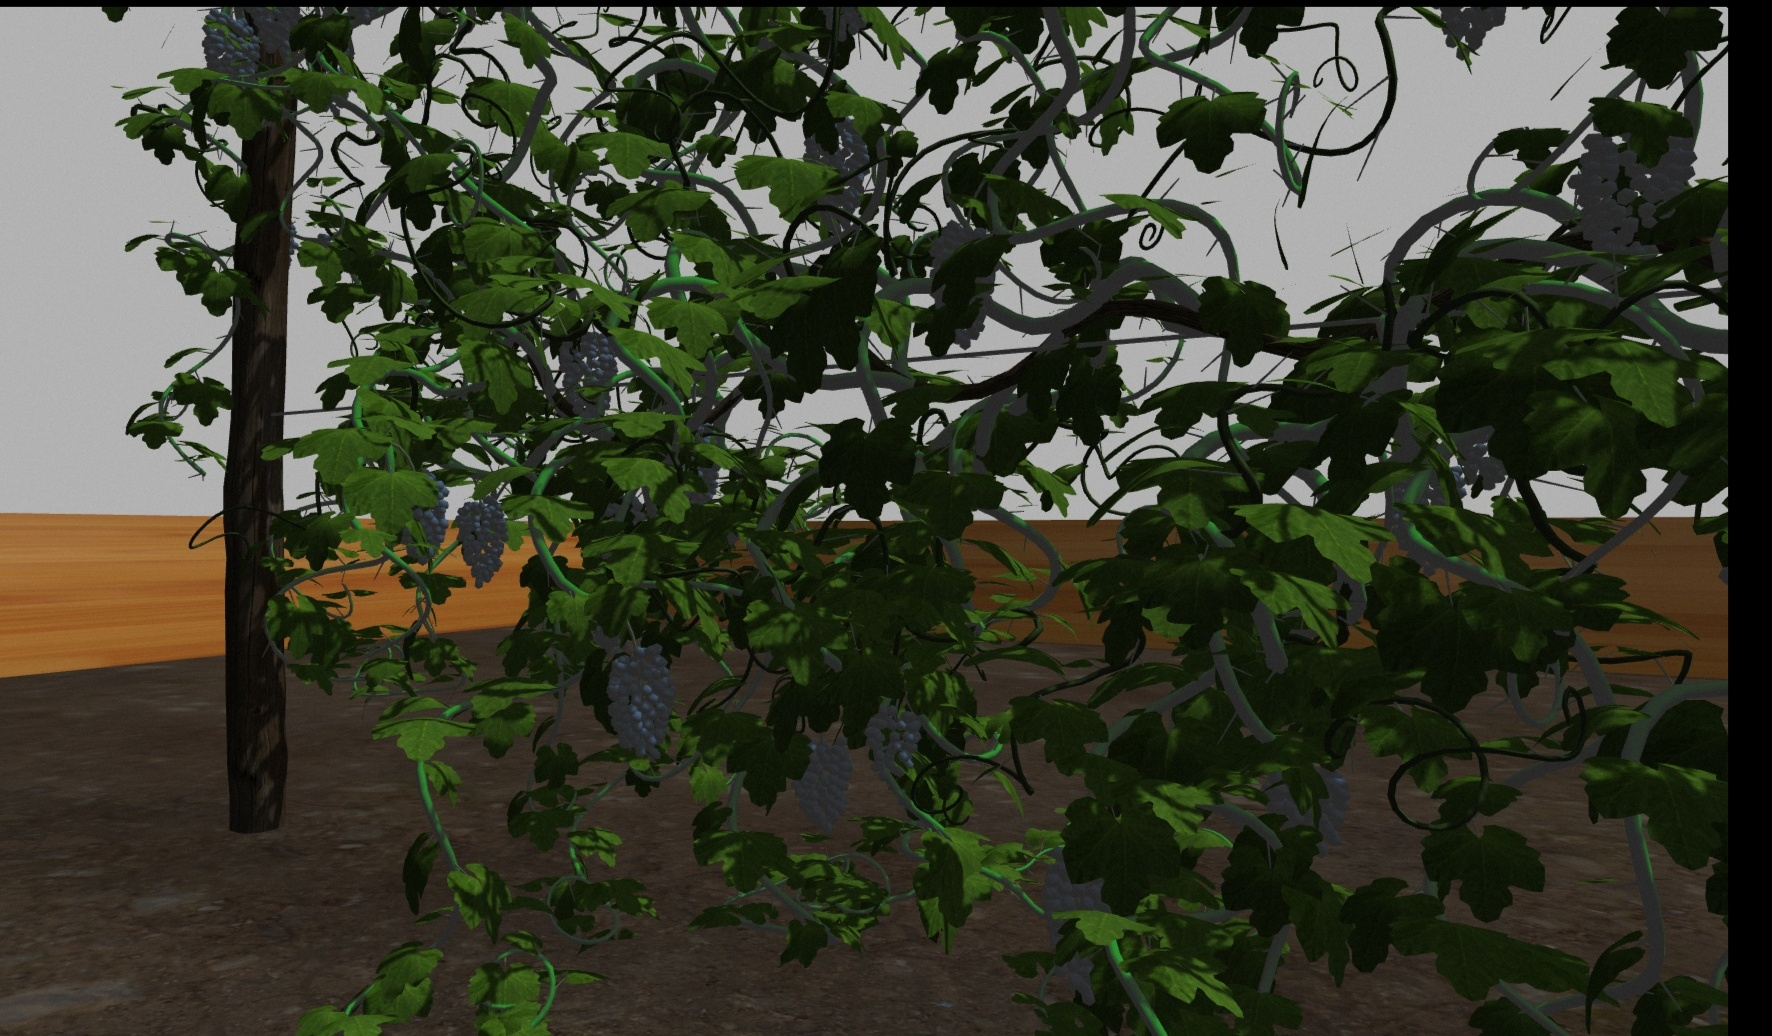grape: (1565, 127, 1700, 261), (1038, 845, 1118, 1004), (605, 640, 679, 761), (1264, 768, 1353, 856), (790, 736, 855, 831), (556, 332, 617, 419), (457, 499, 513, 585), (864, 705, 925, 775), (200, 9, 258, 80), (403, 479, 450, 564)
